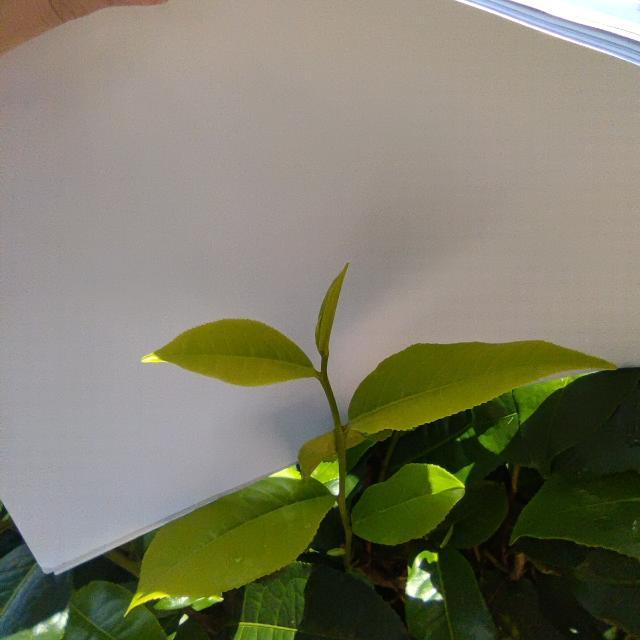Stem: (320, 374, 327, 382)
